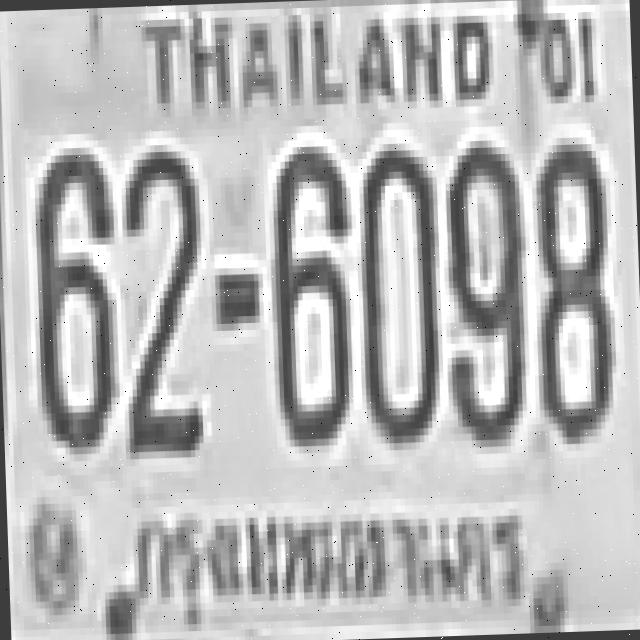0: (355, 142, 439, 436)
2: (117, 140, 206, 456)
6: (28, 139, 117, 448), (266, 138, 350, 440)
8: (530, 136, 610, 438)
9: (439, 140, 523, 440)
Bangkok: (122, 488, 532, 636)
